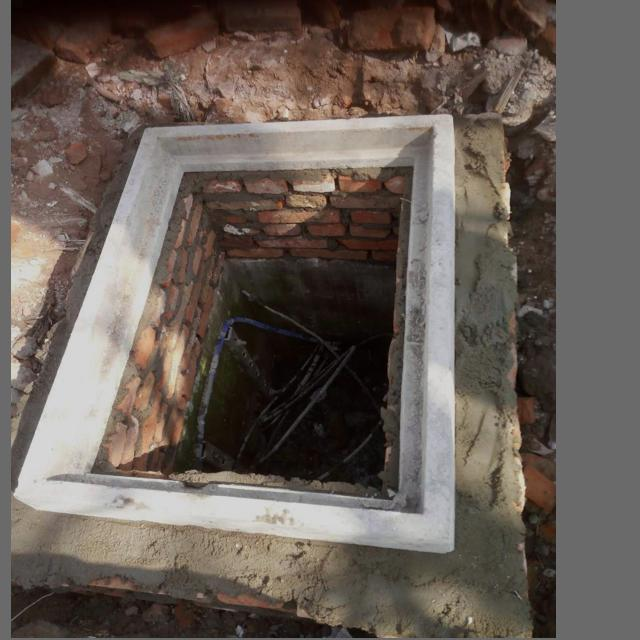lose: (11, 112, 456, 552)
